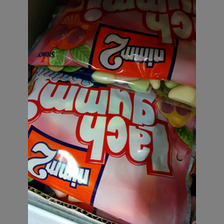candy: (29, 68, 195, 219)
